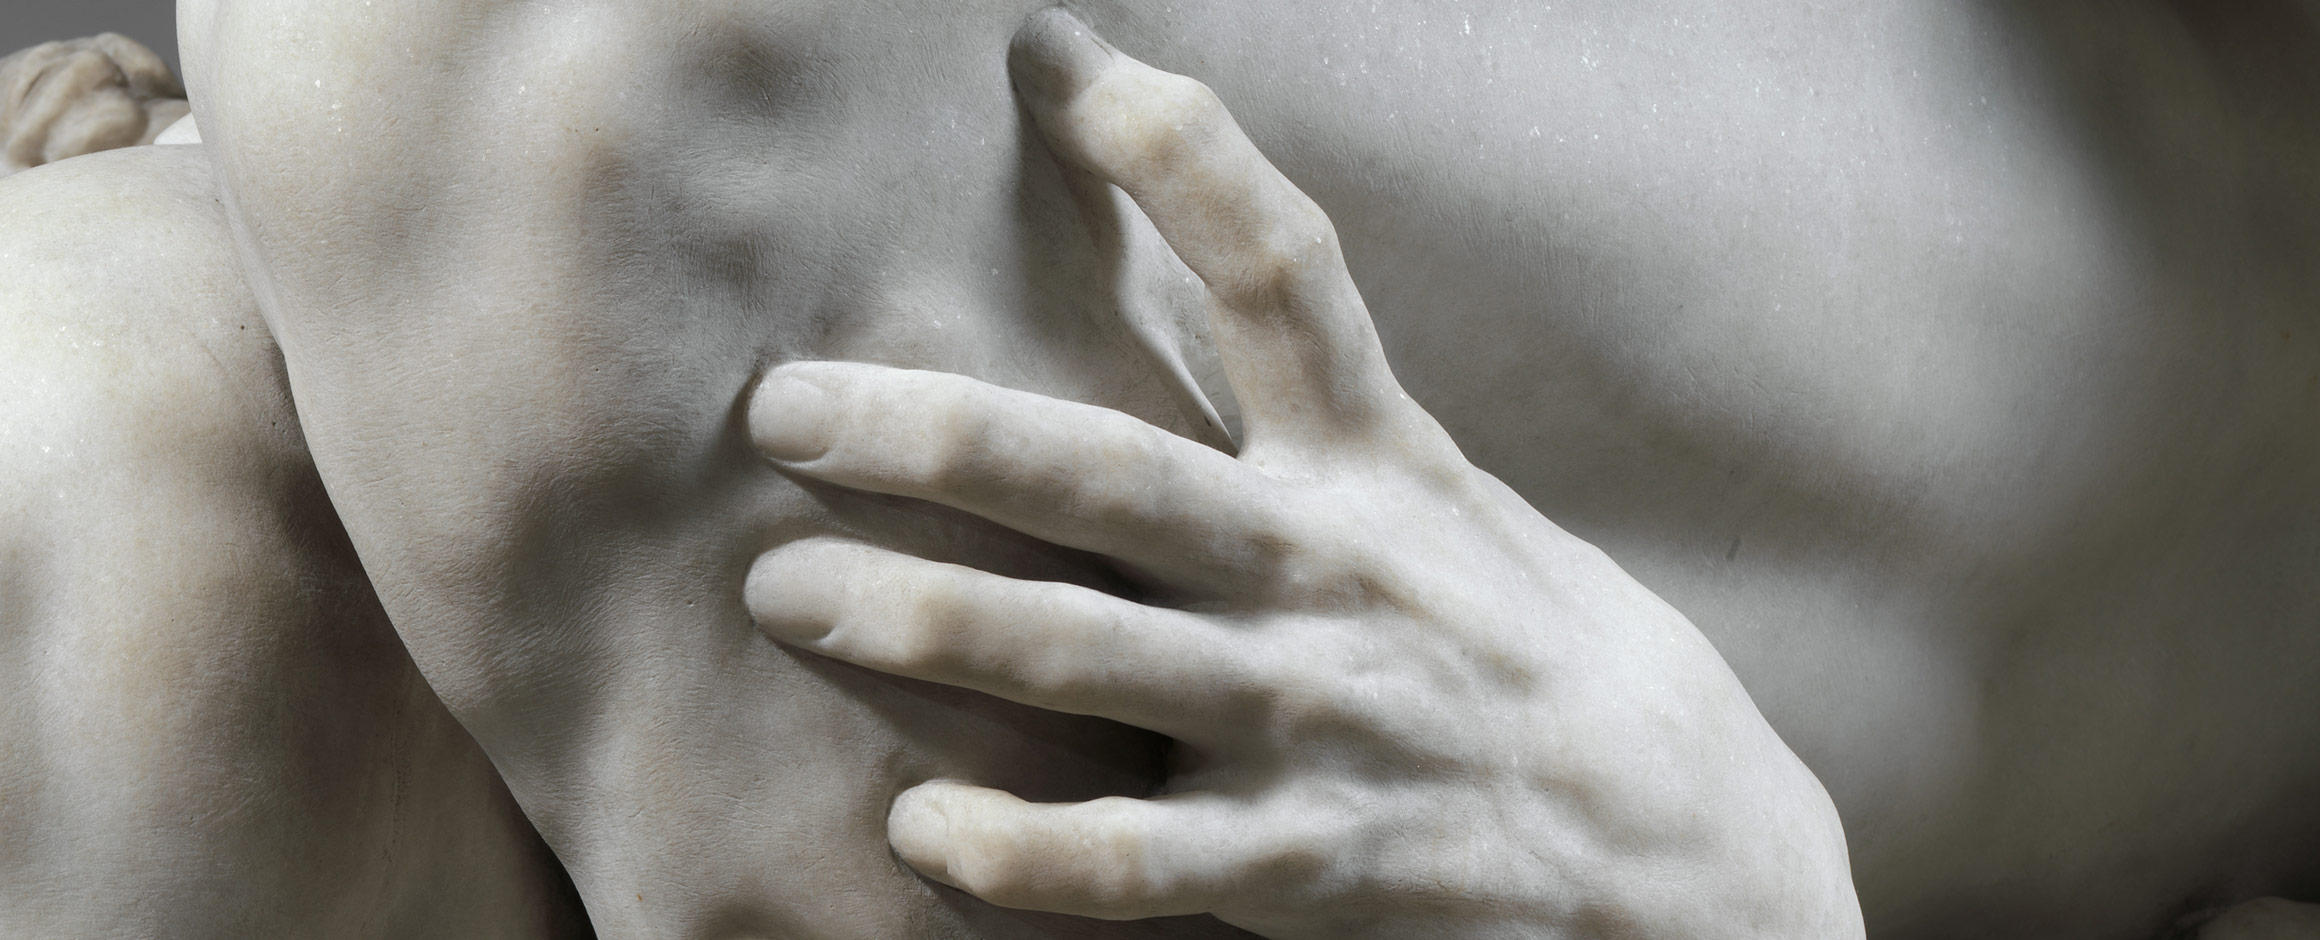finger: (1019, 1, 1457, 506), (749, 332, 1318, 616), (701, 523, 1358, 759), (829, 782, 1366, 930)
